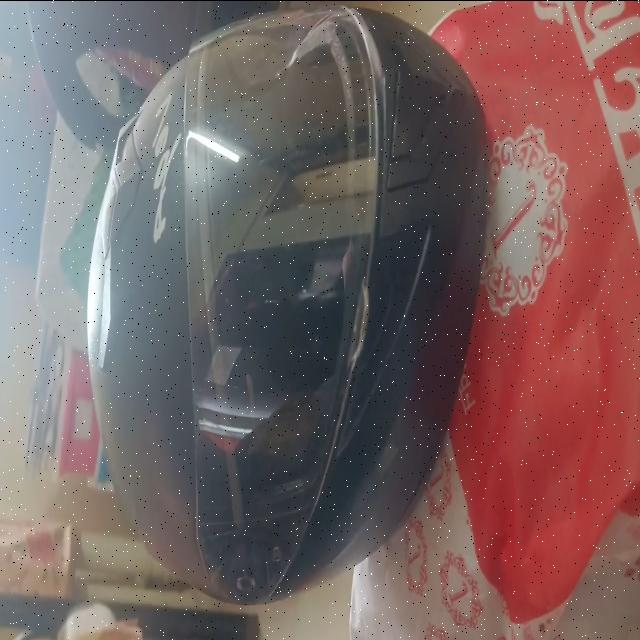Helmet: (88, 9, 488, 602)
